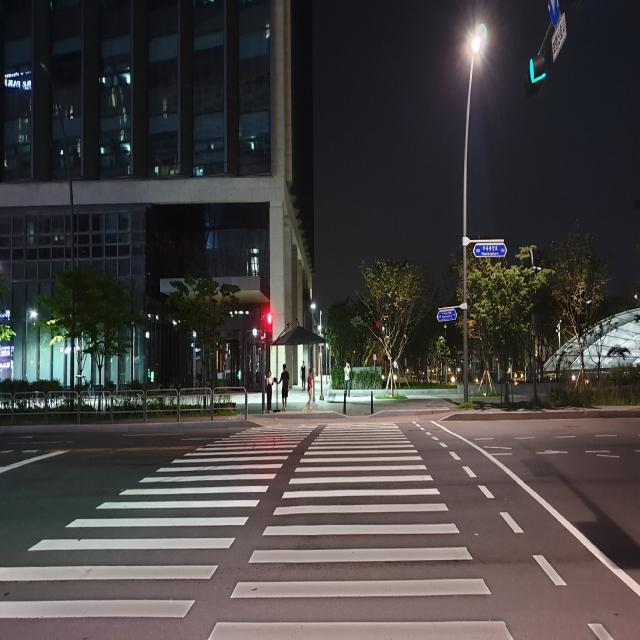빨간불: (266, 311, 274, 347)
횡단보도: (0, 419, 517, 639)
